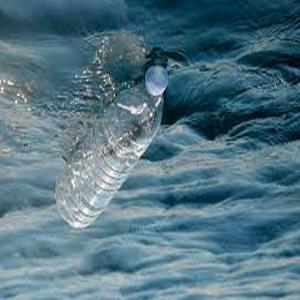Plastic: (55, 61, 173, 230)
